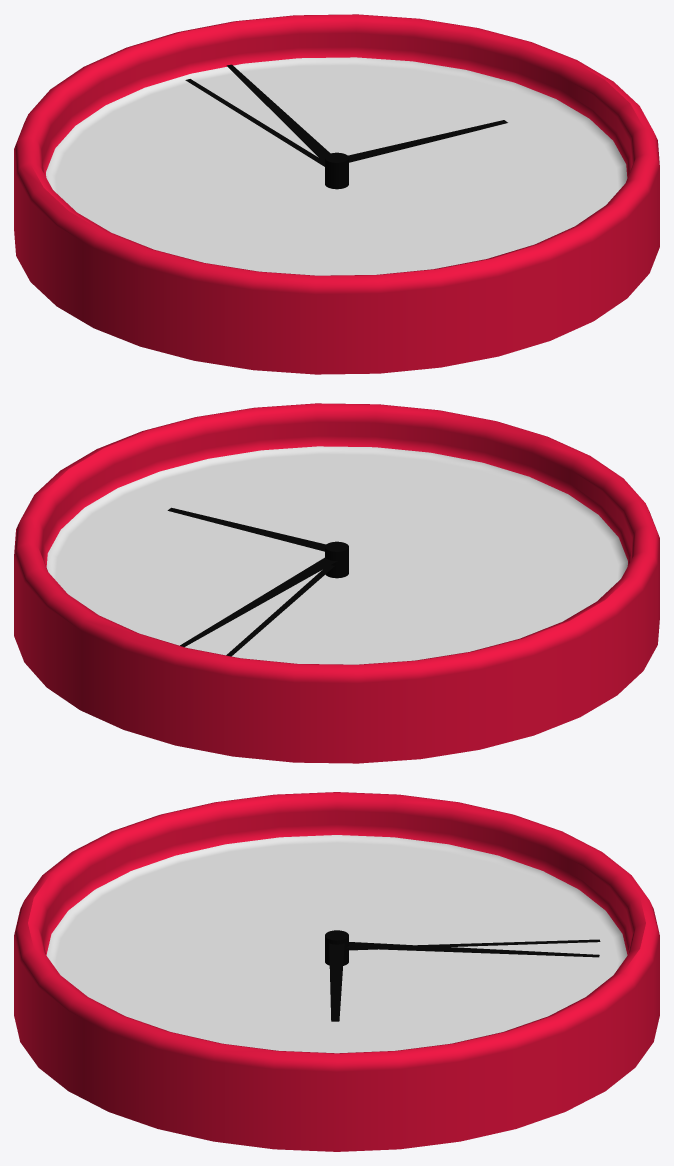
The model's file is Clock_nib_v01.fbx.
3 views of the same model, one above another, from view 1: azimuth 30°, elevation 25°; view 2: azimuth 150°, elevation 25°; view 3: azimuth 270°, elevation 25° (orthographic).
Visible parts, largest first — view 1: Cylinder, Minute, Hour, Cylinder.001, Second; view 2: Cylinder, Minute, Hour, Second, Cylinder.001; view 3: Cylinder, Minute, Hour, Second, Cylinder.001.
Boxes of the visible parts, x1,y1,x2,y2 form: Cylinder: (14, 14, 659, 374); Minute: (226, 64, 330, 163); Hour: (348, 120, 507, 162); Cylinder.001: (325, 152, 348, 189); Second: (185, 79, 324, 166); Cylinder: (14, 403, 659, 763); Minute: (180, 557, 337, 646); Hour: (167, 507, 325, 551); Second: (226, 565, 334, 656); Cylinder.001: (325, 541, 348, 578); Cylinder: (14, 792, 659, 1151); Minute: (346, 942, 599, 957); Hour: (329, 943, 344, 1021); Second: (349, 939, 600, 950); Cylinder.001: (325, 930, 348, 965).
Bounding box in the file's own units: 50 × 7.89 × 50.
